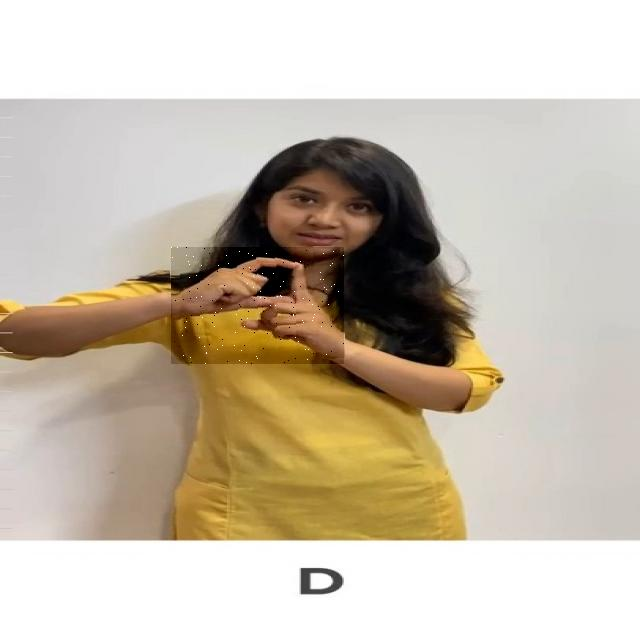D: (171, 247, 344, 364)
